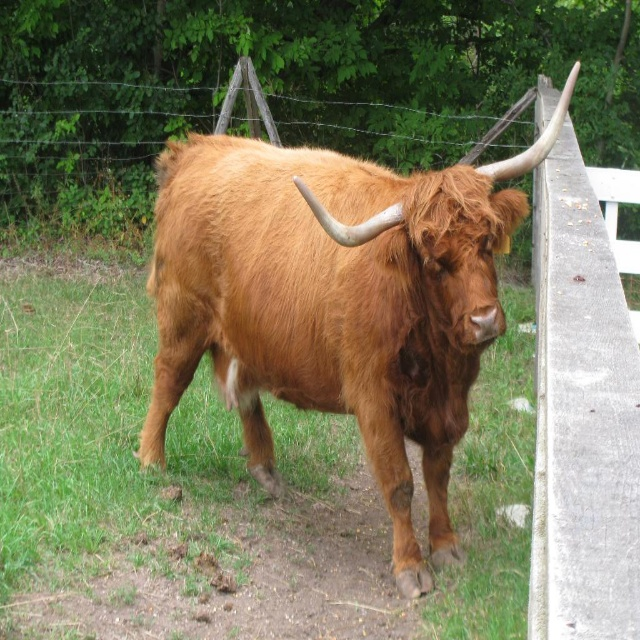Bull: (136, 59, 582, 598)
